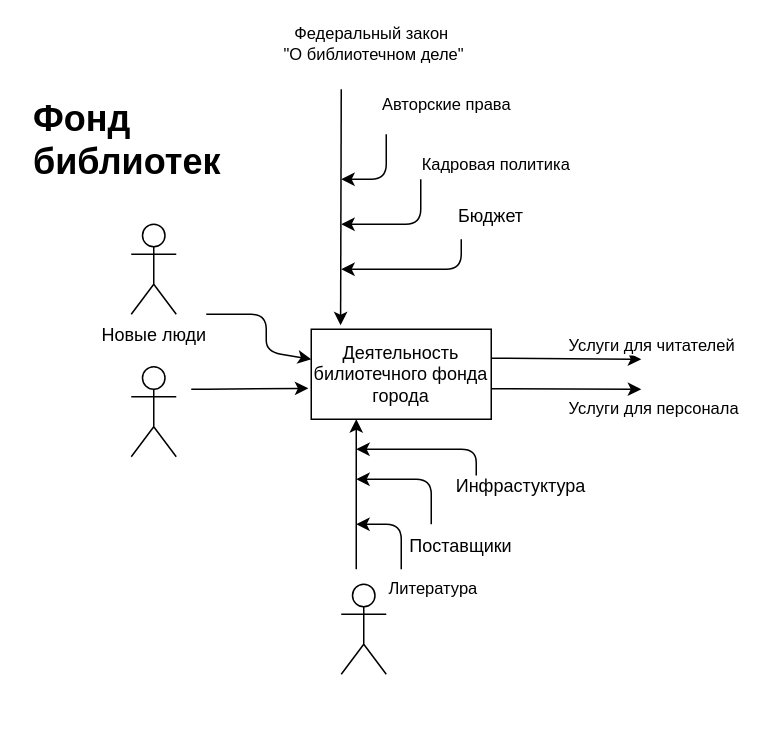
This 765x732 diagram has some shape labels left out. The shapes that lost their labels are listed below. From the top down, each one's centre as x and y in pixels, then its label:
(x=153, y=411): Читатели
(x=363, y=628): Сотрудники
